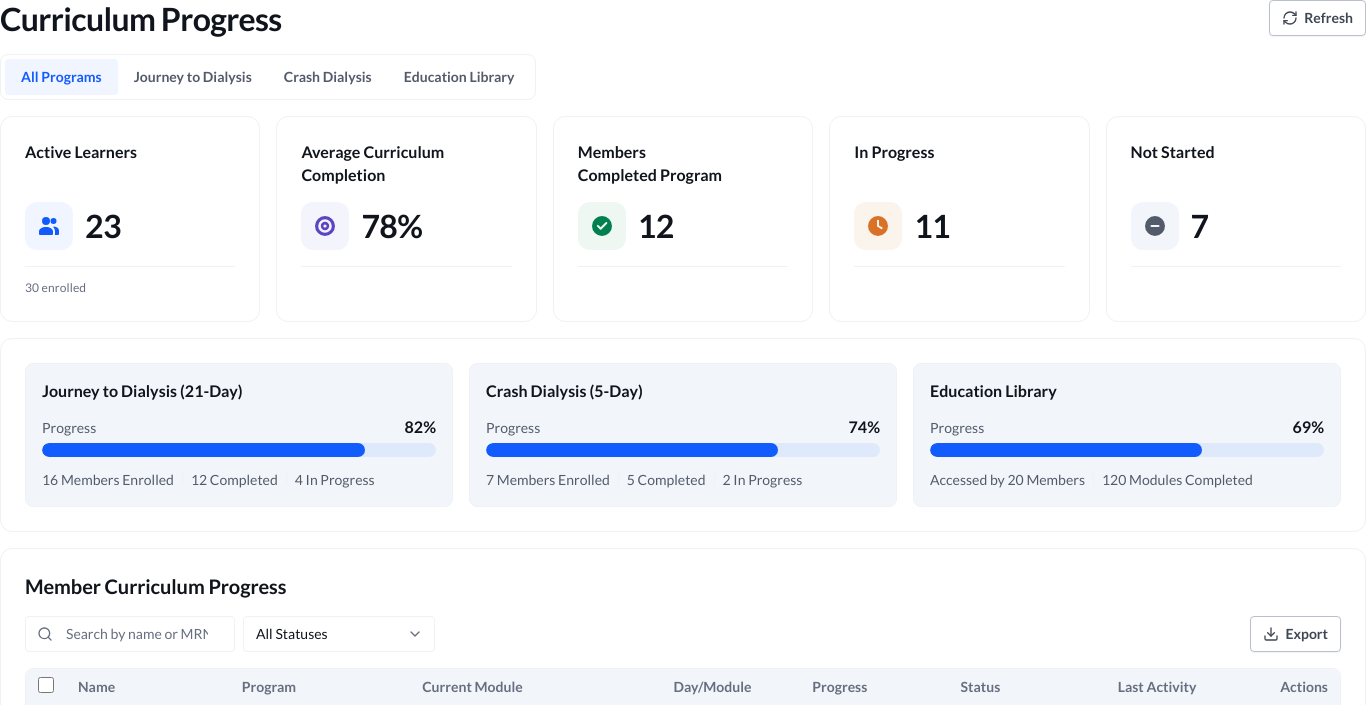
filtering › narrows the table from the status select, and writes it to the URL
The width and height of the screenshot is (1366, 705).
Select "Completed" in the dropdown named "Status" at (339, 634), box [243,616,435,652]
(page scrolled)
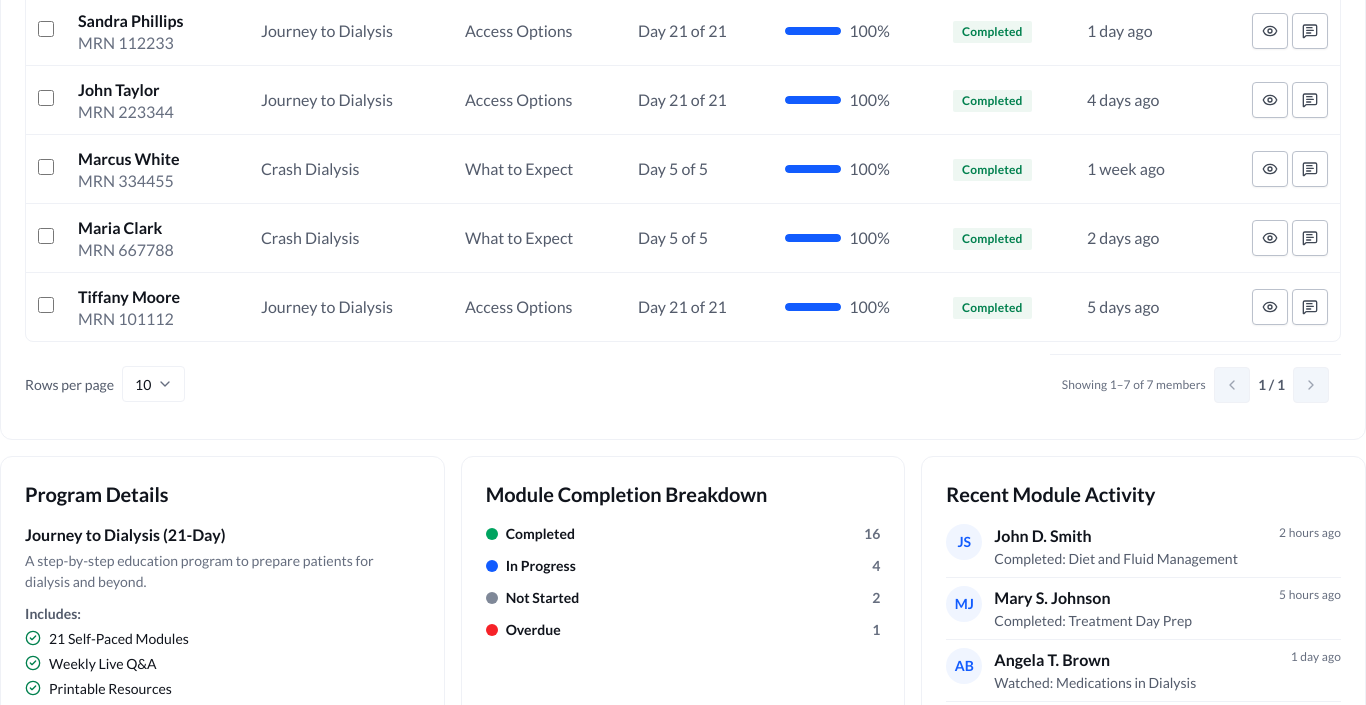
Result: the text "Showing 1–7 of 7 members" is shown at [1062,376,1206,394]
